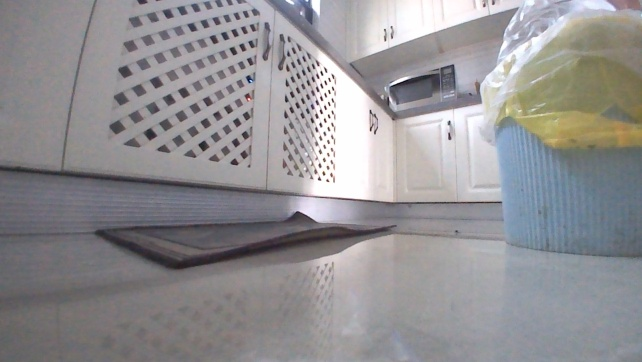blanket: (94, 209, 400, 272)
cupboard: (0, 0, 503, 239)
